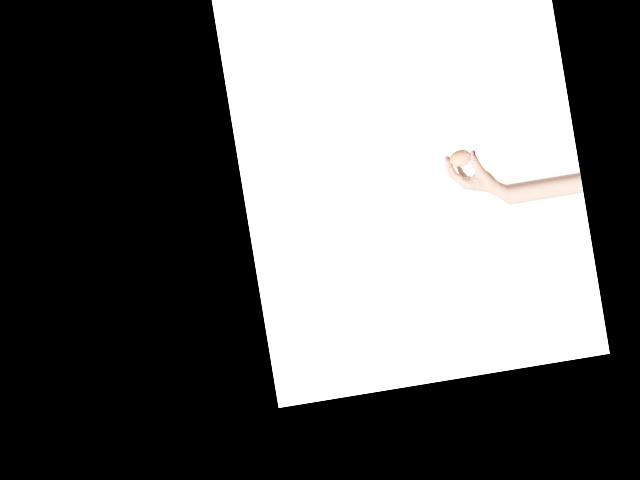egg: (448, 149, 472, 167)
